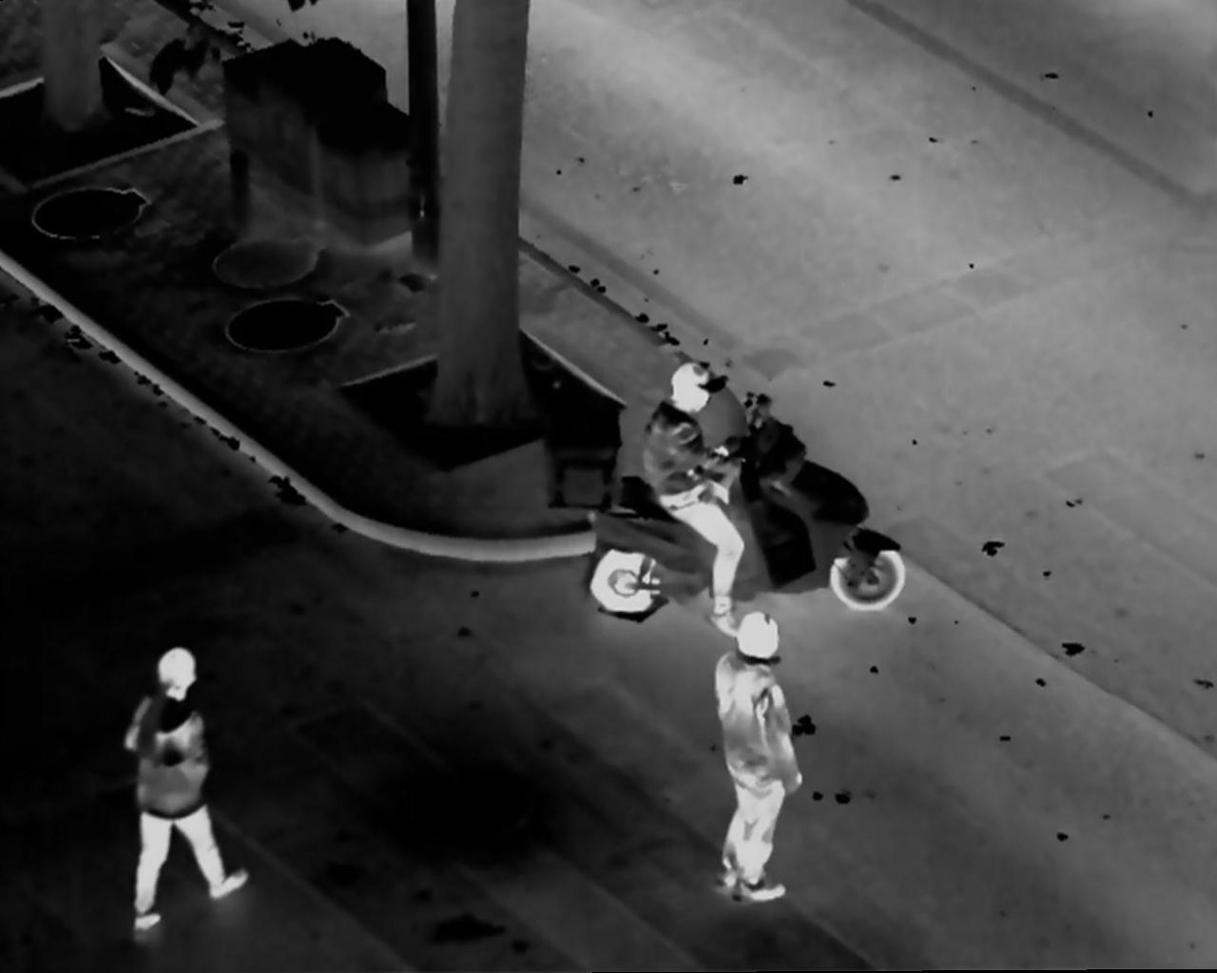person: (114, 638, 250, 935), (644, 359, 751, 643), (712, 610, 806, 910)
